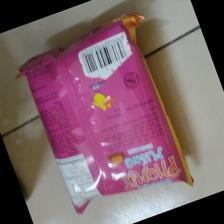Oishi_phomat: (15, 14, 194, 215)
